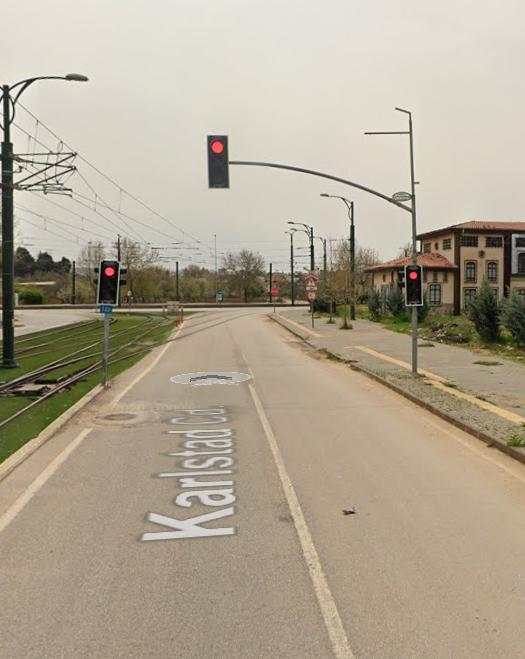redlight: (206, 136, 230, 190), (97, 257, 119, 302), (407, 263, 420, 304)
stop: (271, 287, 279, 297)
